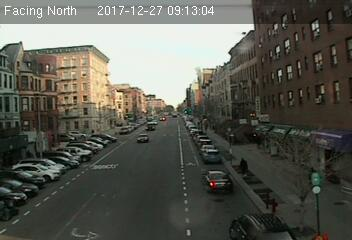car: (228, 208, 296, 240), (200, 169, 232, 190), (201, 150, 220, 162), (136, 134, 150, 142)
pedestrian: (239, 156, 250, 179)
